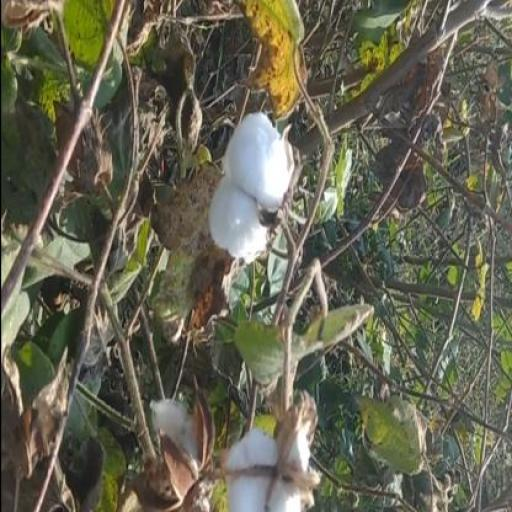cotton_ready: (196, 105, 318, 277)
